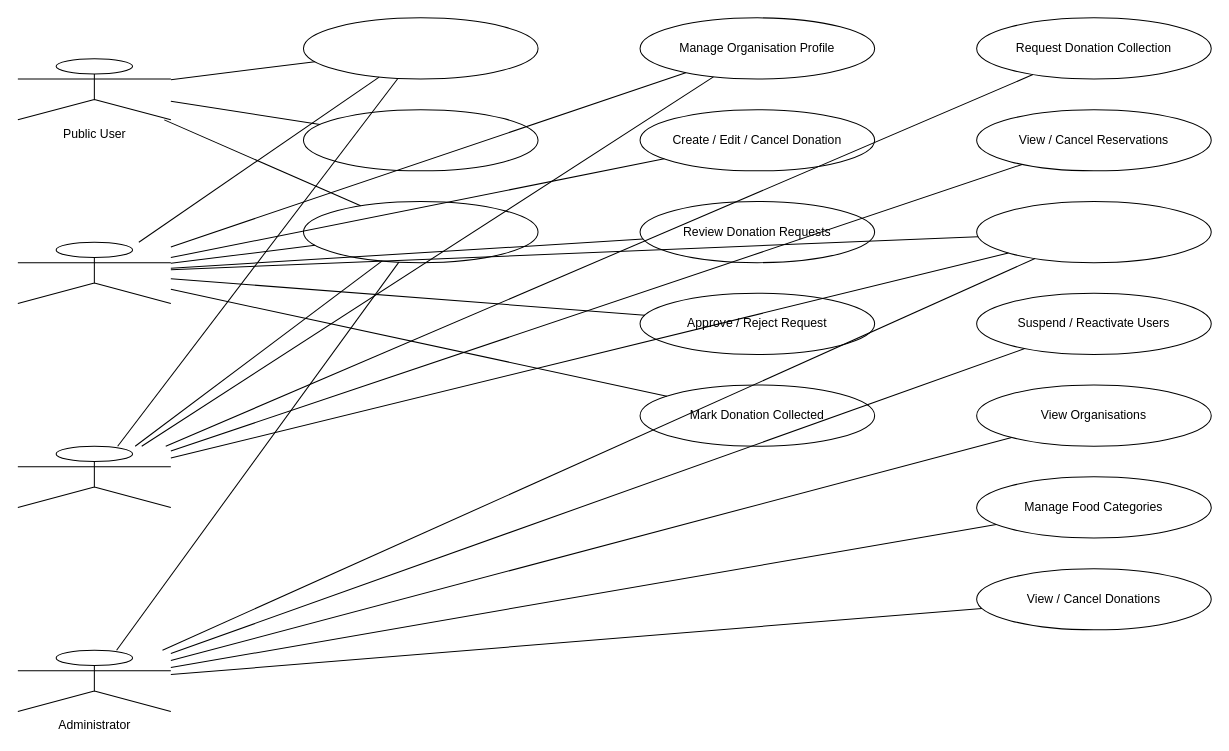
Image size: 1229x751. Some labels were removed from this diagram. Here are the shapes that lost their labels. From the top down, the box of each, then its label:
(302, 17, 538, 79): Browse / View Donations
(302, 109, 538, 171): Register
(302, 200, 538, 263): Login / Logout / Reset Password
(976, 200, 1211, 263): View Role Dashboard
(17, 241, 171, 303): Donor
(17, 445, 171, 507): Recipient
